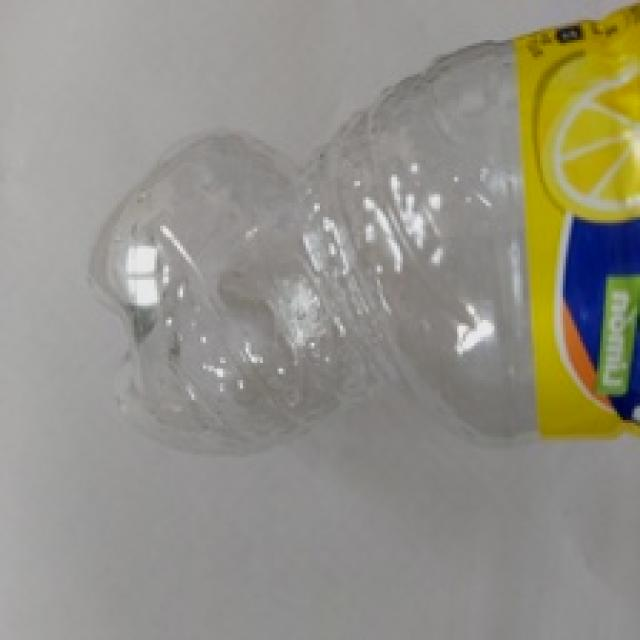bottle: (75, 11, 639, 439)
